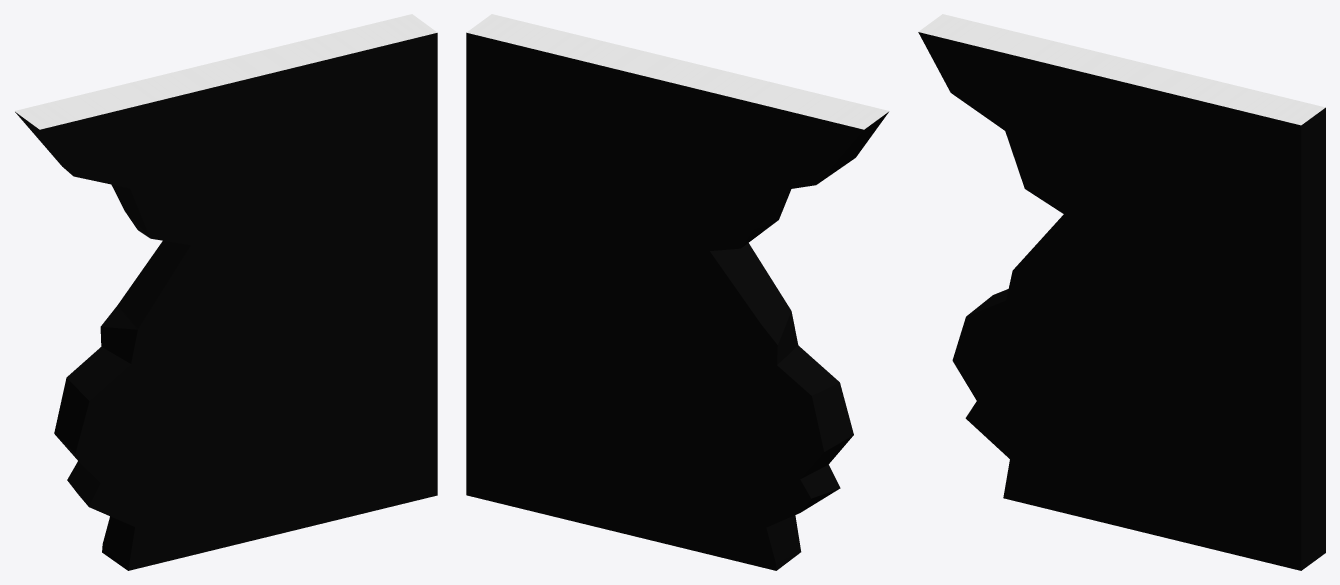
File: Mod_WallBroken_03.fbx
3 renders of one model, left to right at view 1: azimuth 30°, elevation 25°; view 2: azimuth 150°, elevation 25°; view 3: azimuth 330°, elevation 25°, orthographic. The views are drawn at different scales.
Parts seen in each view (by area): view 1: Mod_WallBroken_03; view 2: Mod_WallBroken_03; view 3: Mod_WallBroken_03.
Part boxes in pixels (x1,y1,x2,y2): Mod_WallBroken_03: (14,14,437,570); Mod_WallBroken_03: (466,14,889,570); Mod_WallBroken_03: (918,14,1325,570).
Bounding box in the file's own units: 90 × 100 × 10.
